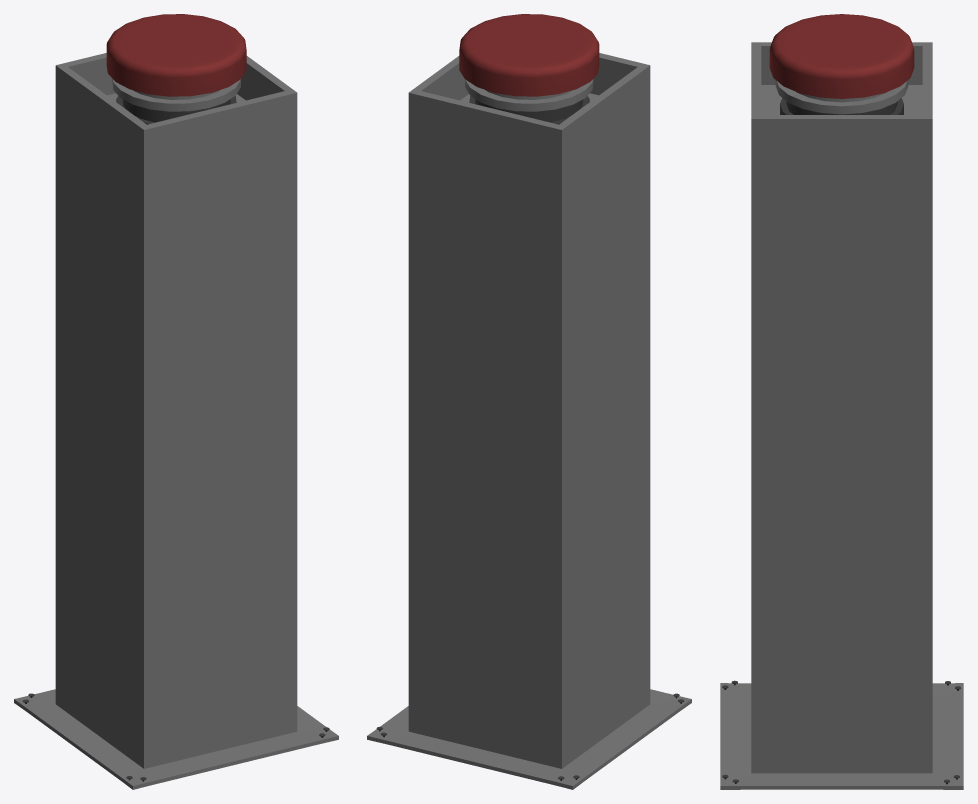
File: Button.fbx
3 views of the same model, side by side, from view 1: azimuth 30°, elevation 25°; view 2: azimuth 150°, elevation 25°; view 3: azimuth 270°, elevation 25° (orthographic). The views are drawn at different scales.
Parts seen in each view (by area): view 1: Button_Base, Button; view 2: Button_Base, Button; view 3: Button_Base, Button.
Boxes of the visible parts, left/top/right/bottom form: Button_Base: left=14, top=53, right=338, bottom=789; Button: left=106, top=14, right=246, bottom=124; Button_Base: left=367, top=53, right=691, bottom=789; Button: left=459, top=14, right=599, bottom=124; Button_Base: left=720, top=42, right=963, bottom=789; Button: left=769, top=14, right=914, bottom=114.
Size of the model in its own units: 33.58 by 106 by 33.58.
